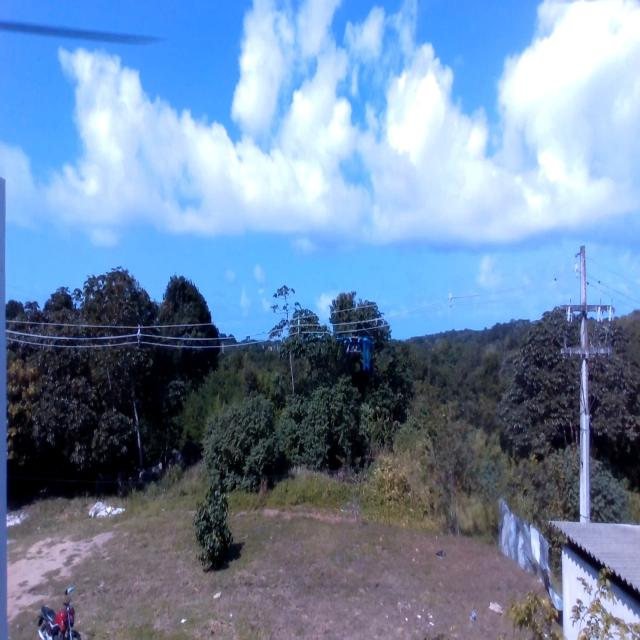-uav-: (333, 323, 382, 398)
